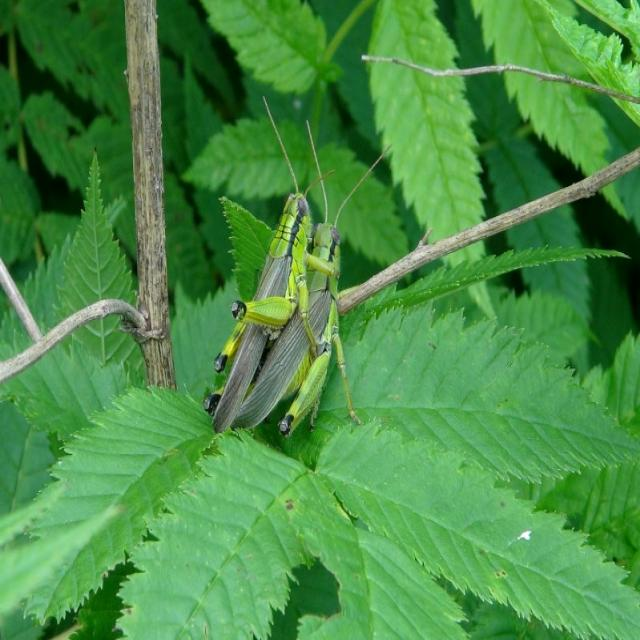ZhaMeng: (233, 202, 361, 450), (197, 179, 318, 436)
